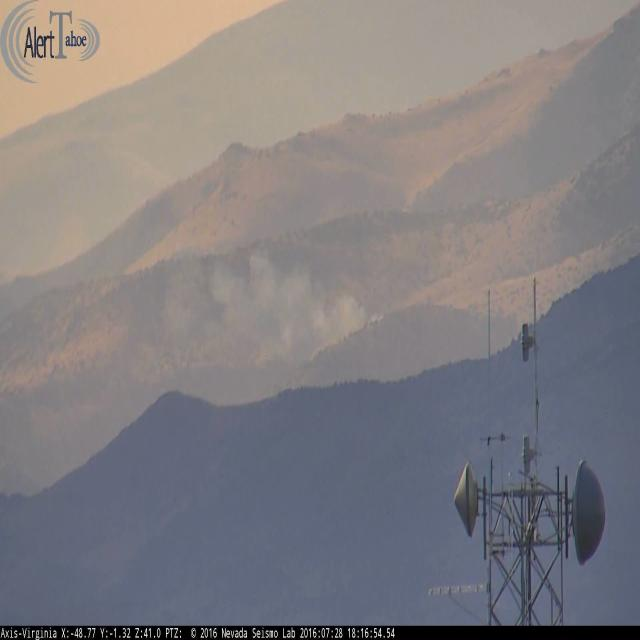smoke: (174, 264, 371, 348)
